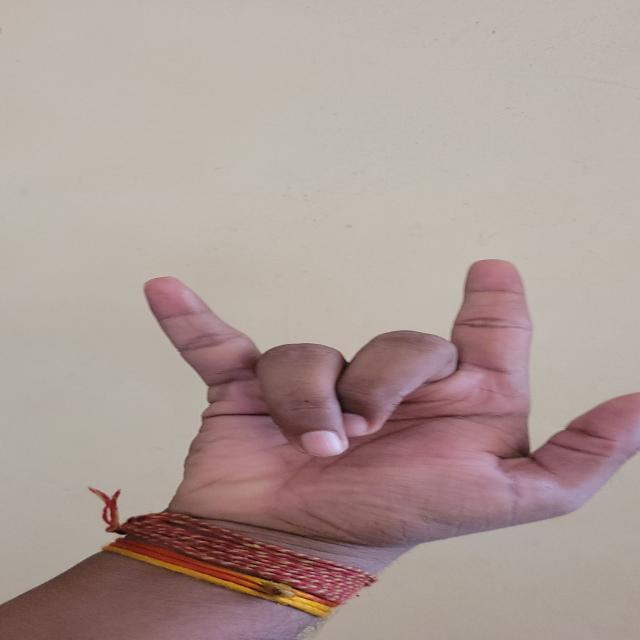i like you: (97, 225, 640, 565)
